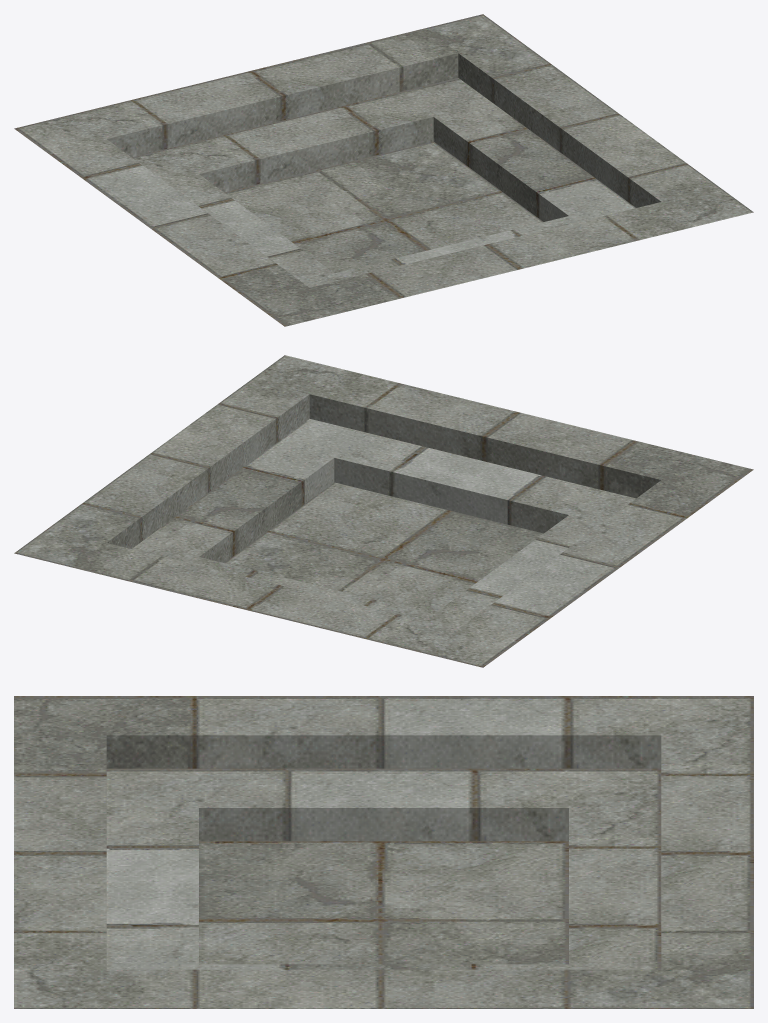
Rendered from floor_step_x2_2x2.fbx.
3 renders of one model, top to bottom at view 1: azimuth 30°, elevation 25°; view 2: azimuth 150°, elevation 25°; view 3: azimuth 270°, elevation 25°, orthographic. The views are drawn at different scales.
Parts seen in each view (by area): view 1: floor_step_x2_2x2; view 2: floor_step_x2_2x2; view 3: floor_step_x2_2x2.
Boxes of the visible parts, x1=… form: floor_step_x2_2x2: x1=14, y1=14, x2=753, y2=326; floor_step_x2_2x2: x1=14, y1=355, x2=753, y2=667; floor_step_x2_2x2: x1=14, y1=696, x2=753, y2=1008.
Size of the model in its own units: 200 by 20 by 200.
